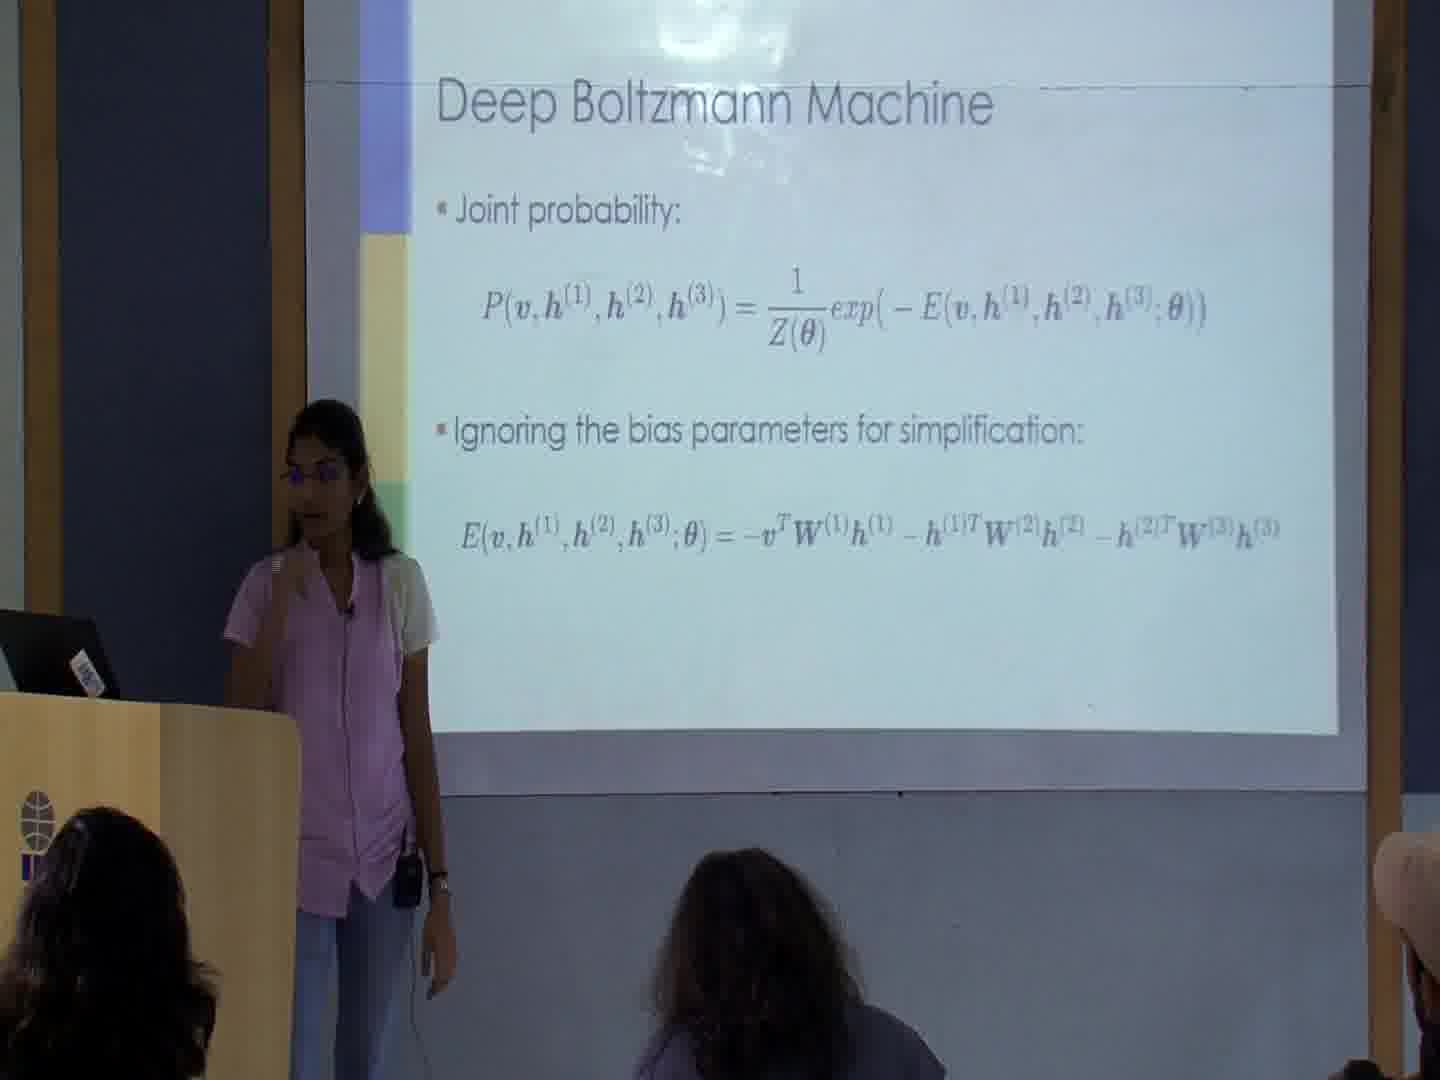eq: (480, 262, 1214, 357), (458, 504, 1287, 557)
